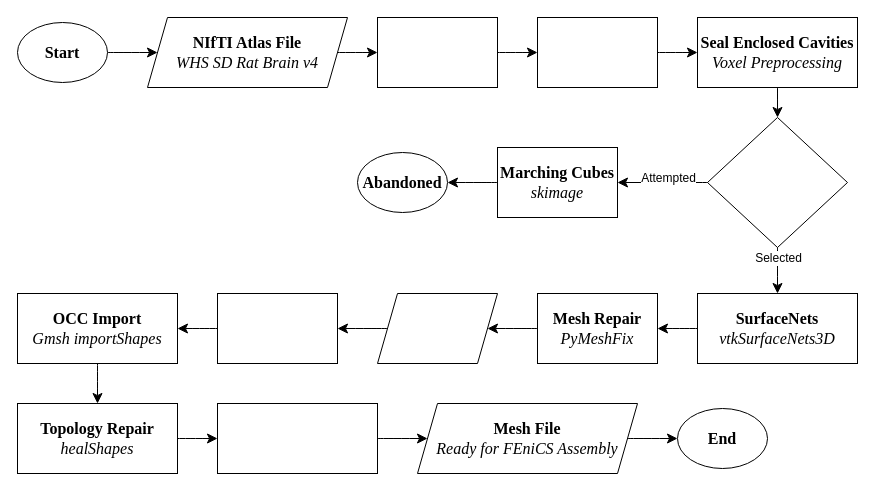
Image size: 875x491. Some labels were removed from this diagram. Each missing label, with the centre of its shape:
"4 × Downsample" goes at point 597,52.
"Binary Mask data > 0" goes at point 437,52.
"STL File" goes at point 437,328.
"STL → STEP Analysis Situs" goes at point 277,328.
"Surface Extraction Algorithm" goes at point 777,182.
"Tetrahedral Mesh Gmsh HXT Algorithm" goes at point 297,438.
